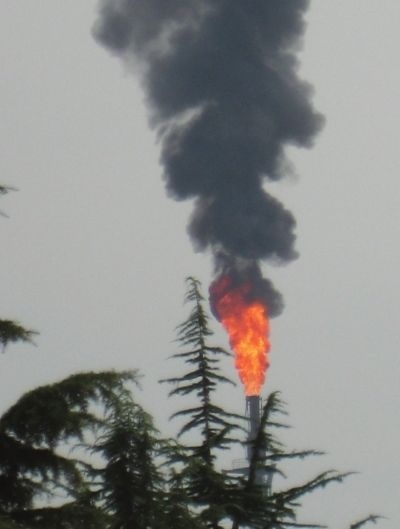fire: (217, 282, 273, 396)
